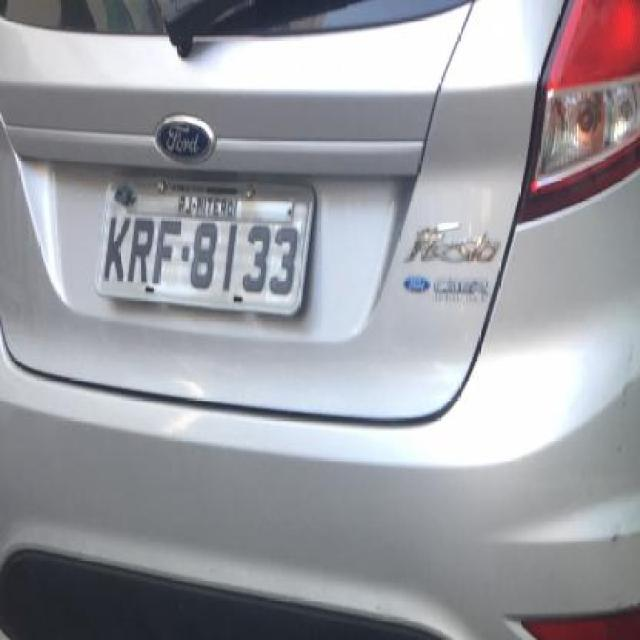old_plate: (90, 165, 327, 328)
